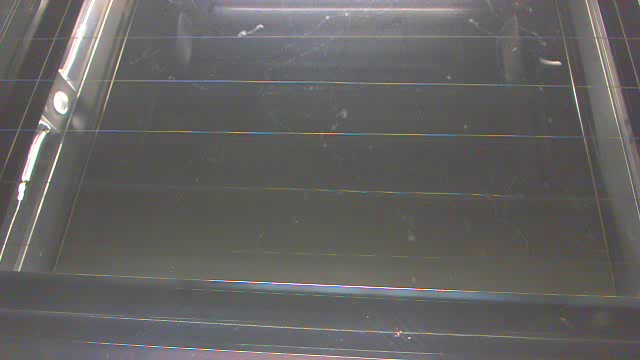alpha: (540, 59, 561, 65)
